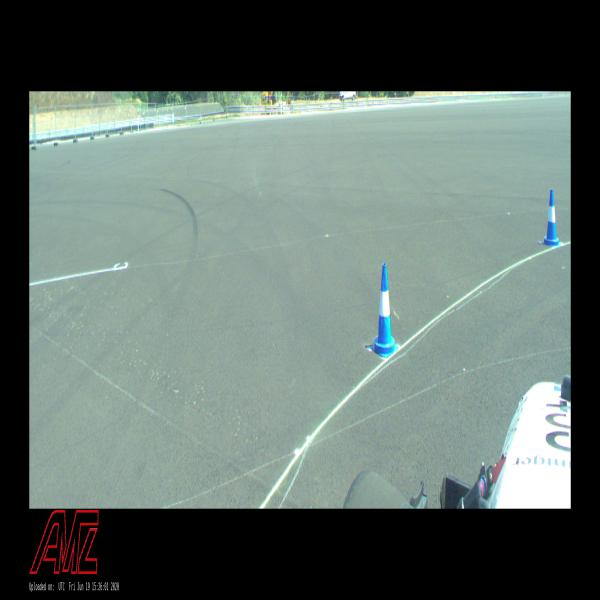blue_cone: (371, 264, 398, 358), (542, 189, 561, 245)
